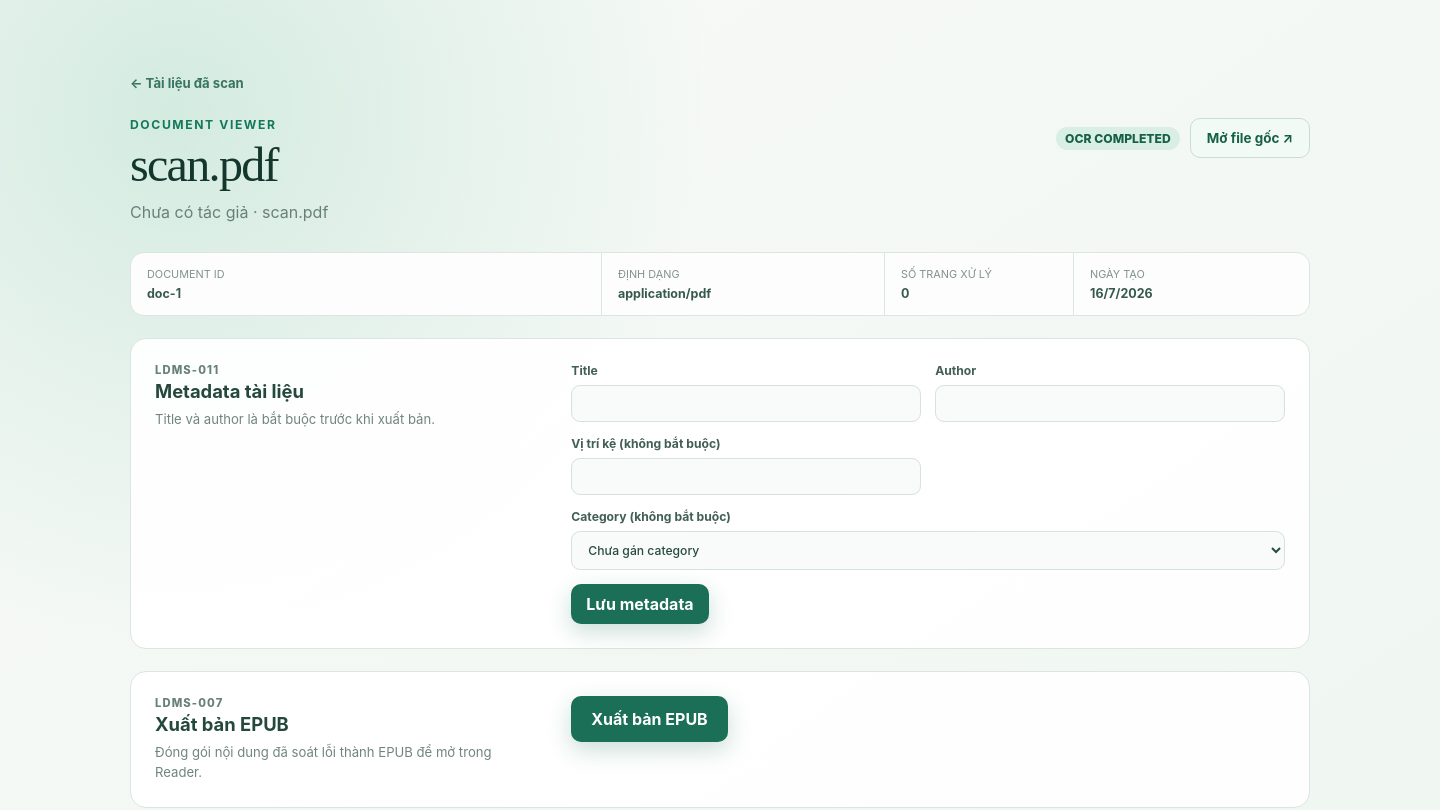
Test: DocumentViewerPage › shows metadata API validation errors
expect the heading "Metadata tài liệu" is shown: met, box [155, 380, 304, 402]
Click the button "Lưu metadata".
click(640, 604)  # box [571, 584, 709, 624]
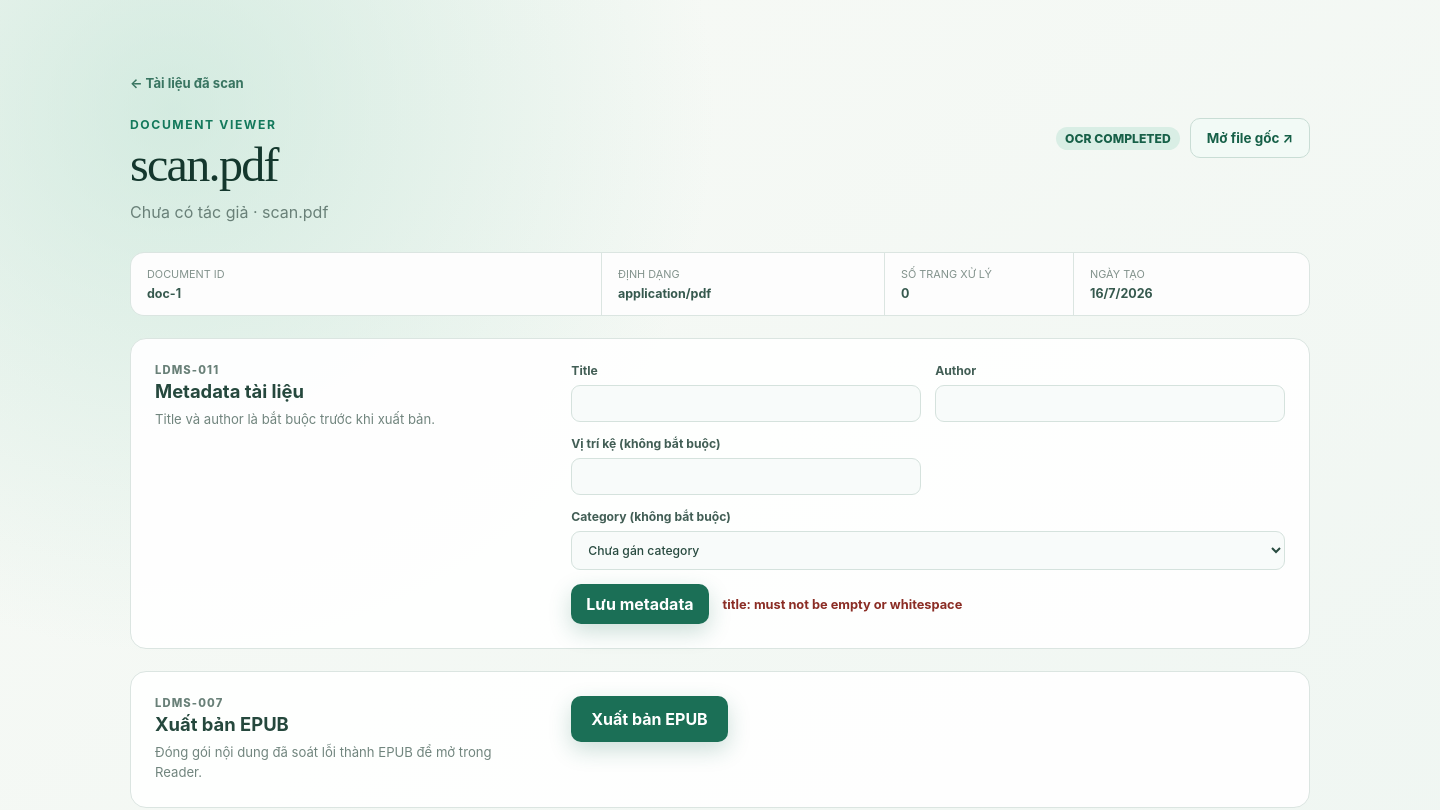
expect the message reads "title: must not be empty or whitespace": met, box [723, 597, 962, 612]
